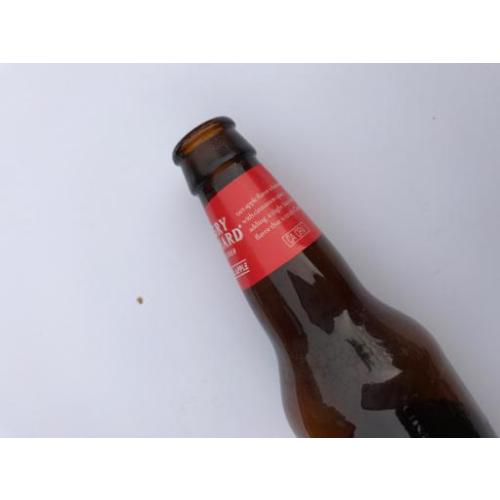glass: (173, 116, 500, 434)
